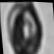correct: (0, 0, 46, 54)
